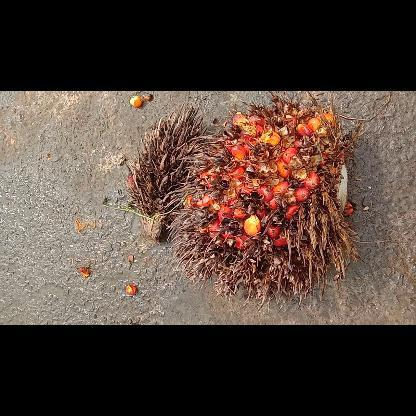Janjang kosong: (122, 104, 206, 242)
Terlalu masak: (166, 90, 362, 308)
